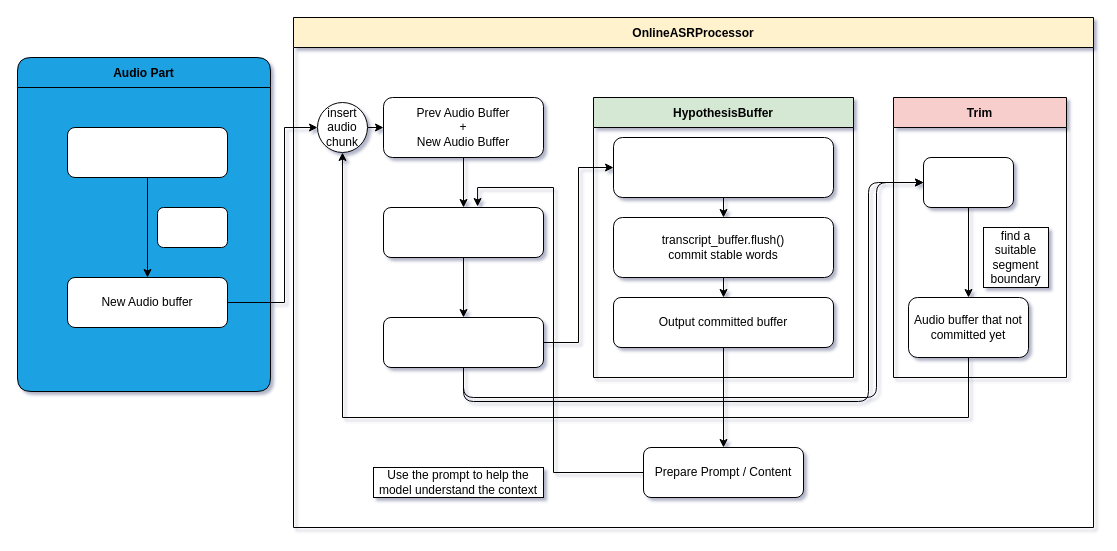
Image size: 1117x551. Some labels were removed from this diagram. The shapes that lost their labels are listed below. From the top down, each one's centre as x and y in pixels, then its label:
point (147, 152): External Audio Source
point (723, 167): transcript_buffer.insert() deduplicate repeated words
point (968, 182): chunk completed segment
point (192, 227): librosa/ffmpeg
point (463, 232): ASR model Inference
point (463, 342): Result Buffer
